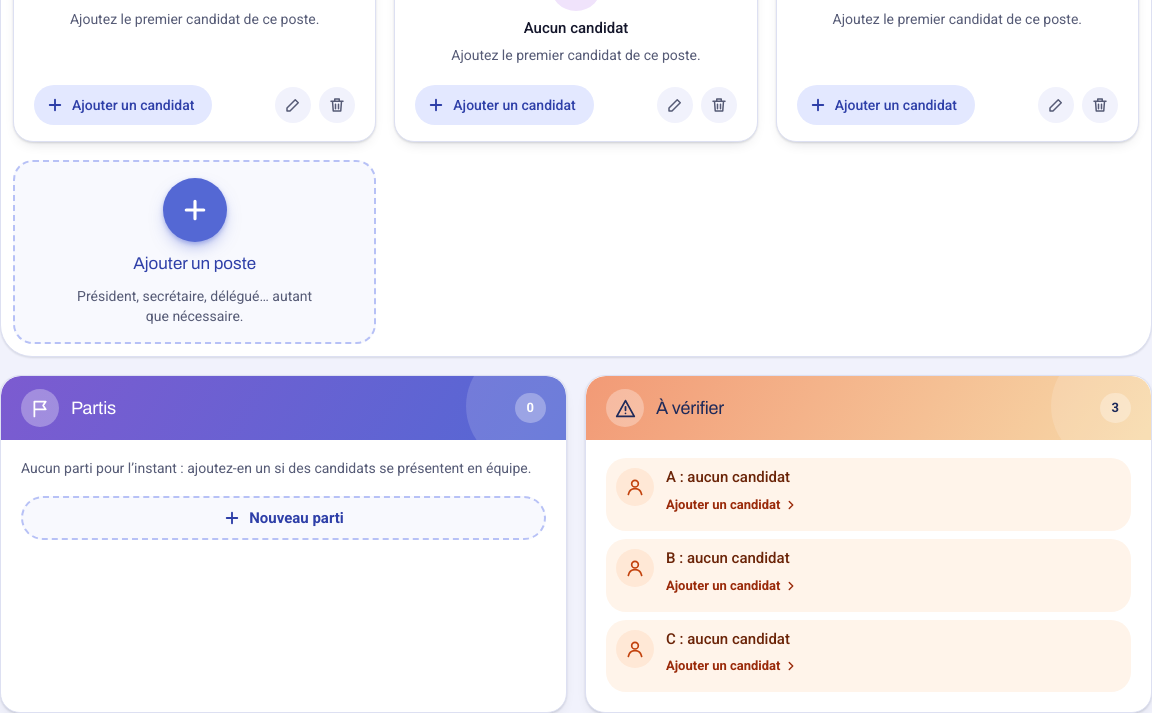
Test: BallotsPage parties › closes with the close button without saving
(page scrolled)
Click the button with test id "party-new" at (284, 518), box [21, 496, 546, 540]
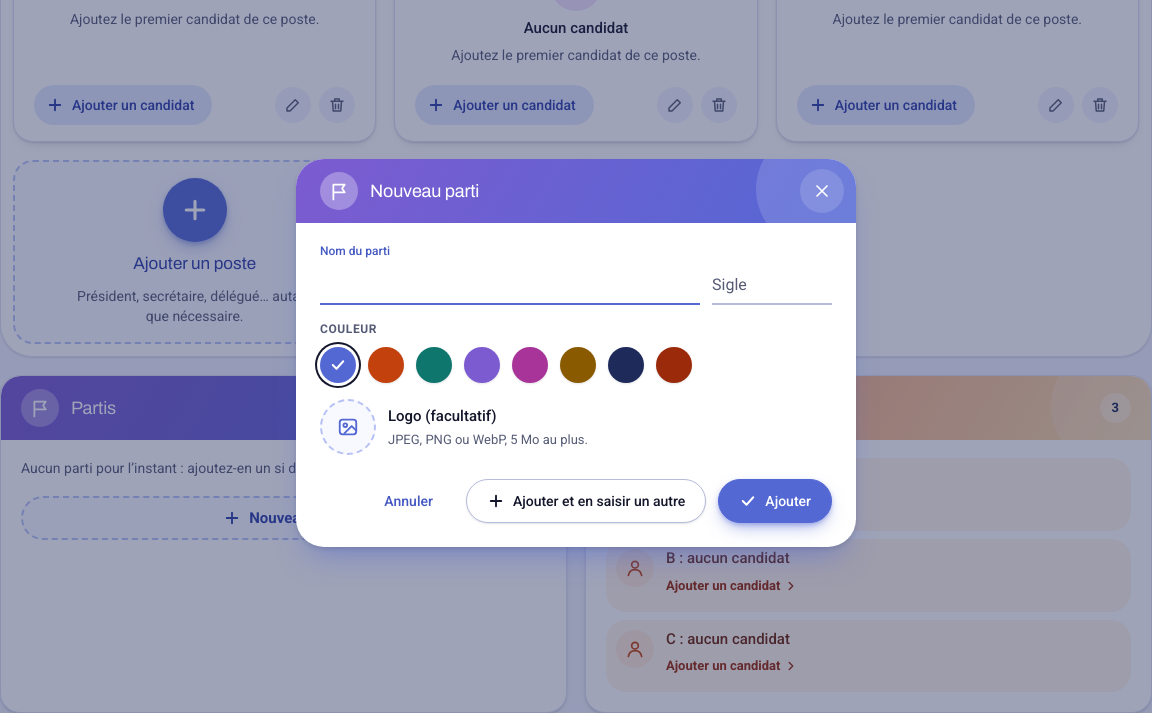
Click the button with test id "party-modal-close" at (822, 191), box [800, 169, 844, 213]
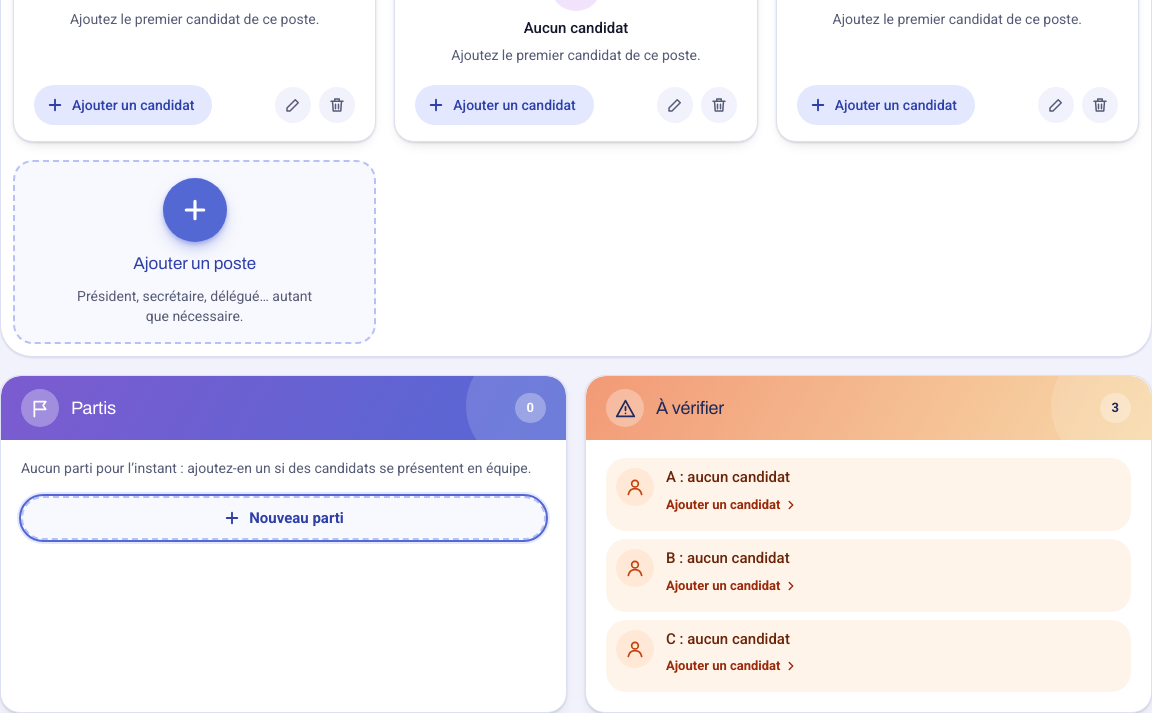
expect the dialog with test id "party-modal" is gone: met
